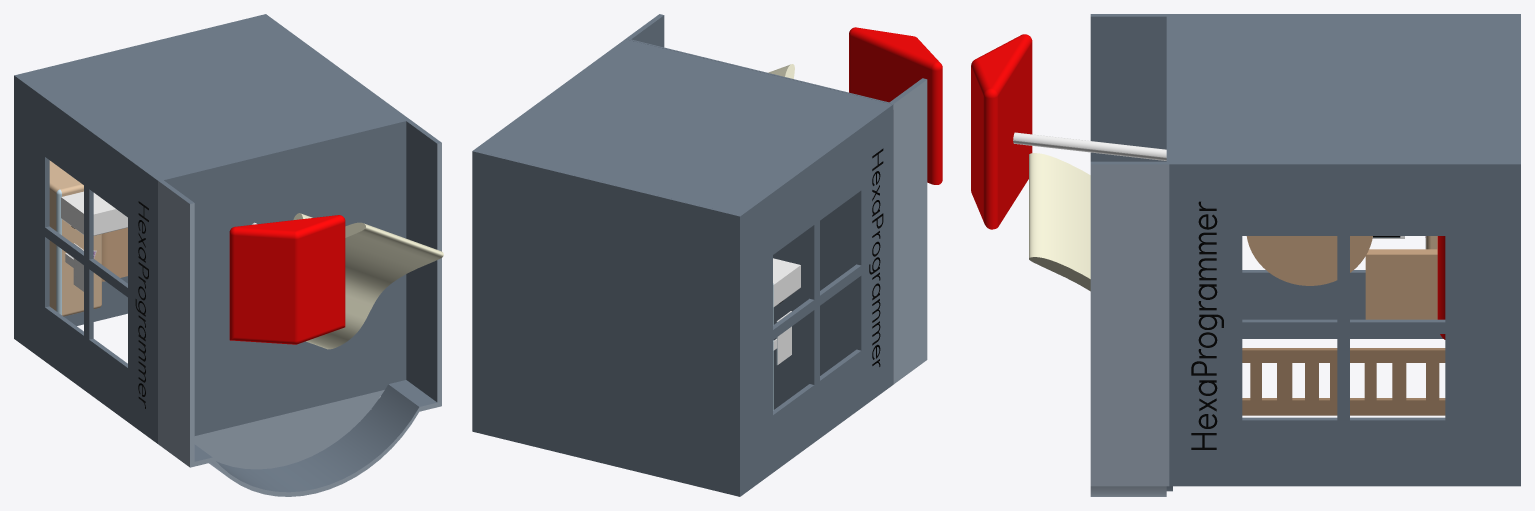
File: HexaRoom.gltf
The picture shows the model from 3 angles, left to right: view 1: azimuth 30°, elevation 25°; view 2: azimuth 150°, elevation 25°; view 3: azimuth 270°, elevation 25°; orthographic projection. The views are drawn at different scales.
Visible parts, largest first — view 1: Part 1 (×9), Part 2; view 2: Part 1 (×6), Part 2; view 3: Part 1 (×11).
Part boxes in pixels (x1,y1,x2,y2): Part 1 (×9): (14, 14, 443, 496); Part 2: (194, 390, 384, 469); Part 1 (×6): (472, 14, 942, 496); Part 2: (773, 357, 827, 409); Part 1 (×11): (971, 14, 1520, 496).
Size of the model in its own units: 0.14 by 0.17 by 0.2166.
